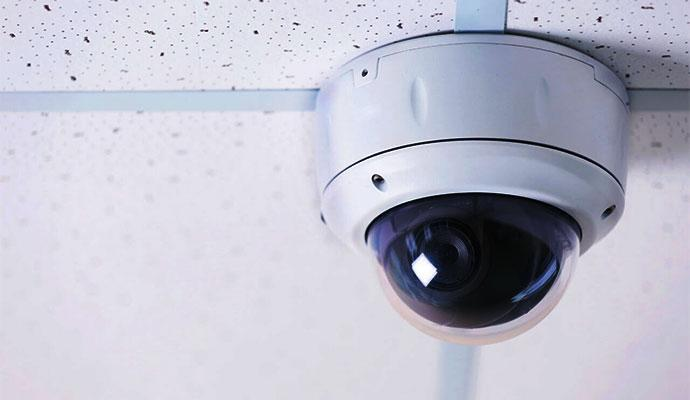360-Cam: (288, 36, 657, 356)
